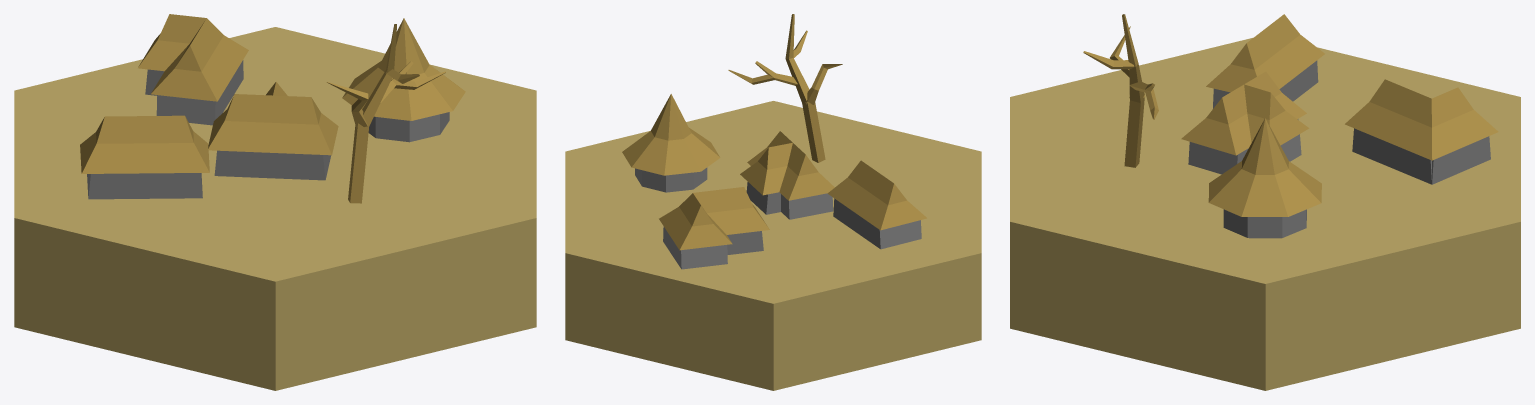
The model's file is Casas_Desertico_4.fbx.
The picture shows the model from 3 angles, left to right: view 1: azimuth 30°, elevation 25°; view 2: azimuth 150°, elevation 25°; view 3: azimuth 270°, elevation 25°; orthographic projection. The views are drawn at different scales.
Visible parts, largest first — view 1: Casas_Desertico_4; view 2: Casas_Desertico_4; view 3: Casas_Desertico_4.
Boxes of the visible parts, bbox=[...] form: Casas_Desertico_4: bbox=[14, 14, 536, 390]; Casas_Desertico_4: bbox=[565, 14, 981, 390]; Casas_Desertico_4: bbox=[1010, 14, 1520, 390].
Bounding box in the file's own units: 200 × 103 × 173.
